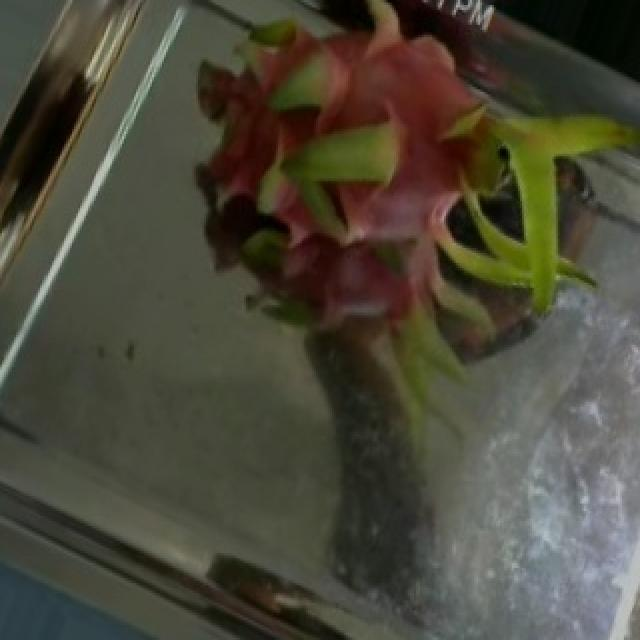fruit: (214, 0, 634, 389)
